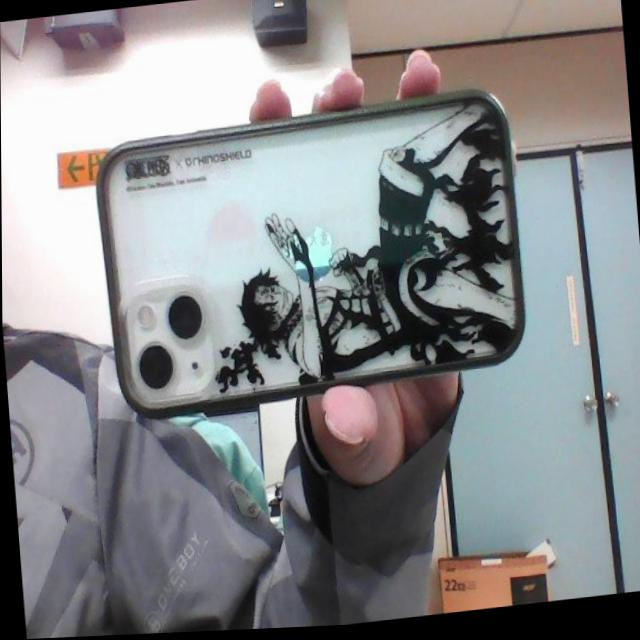Smartphone: (82, 73, 537, 441)
